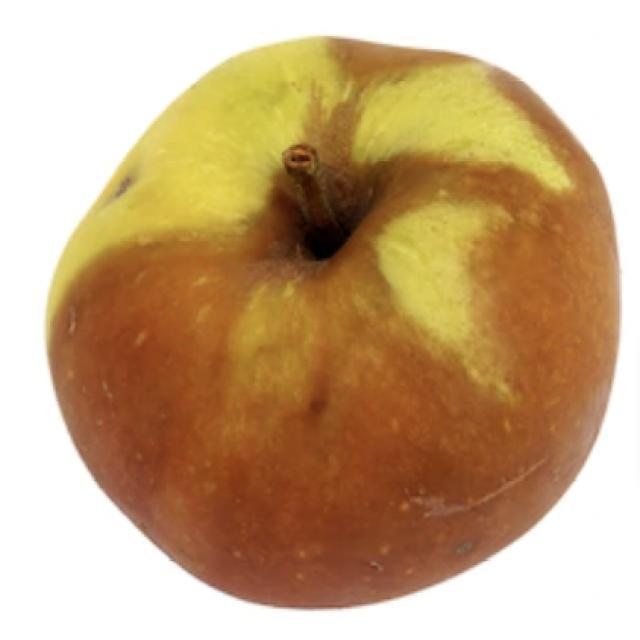Rotten: (32, 30, 623, 613)
